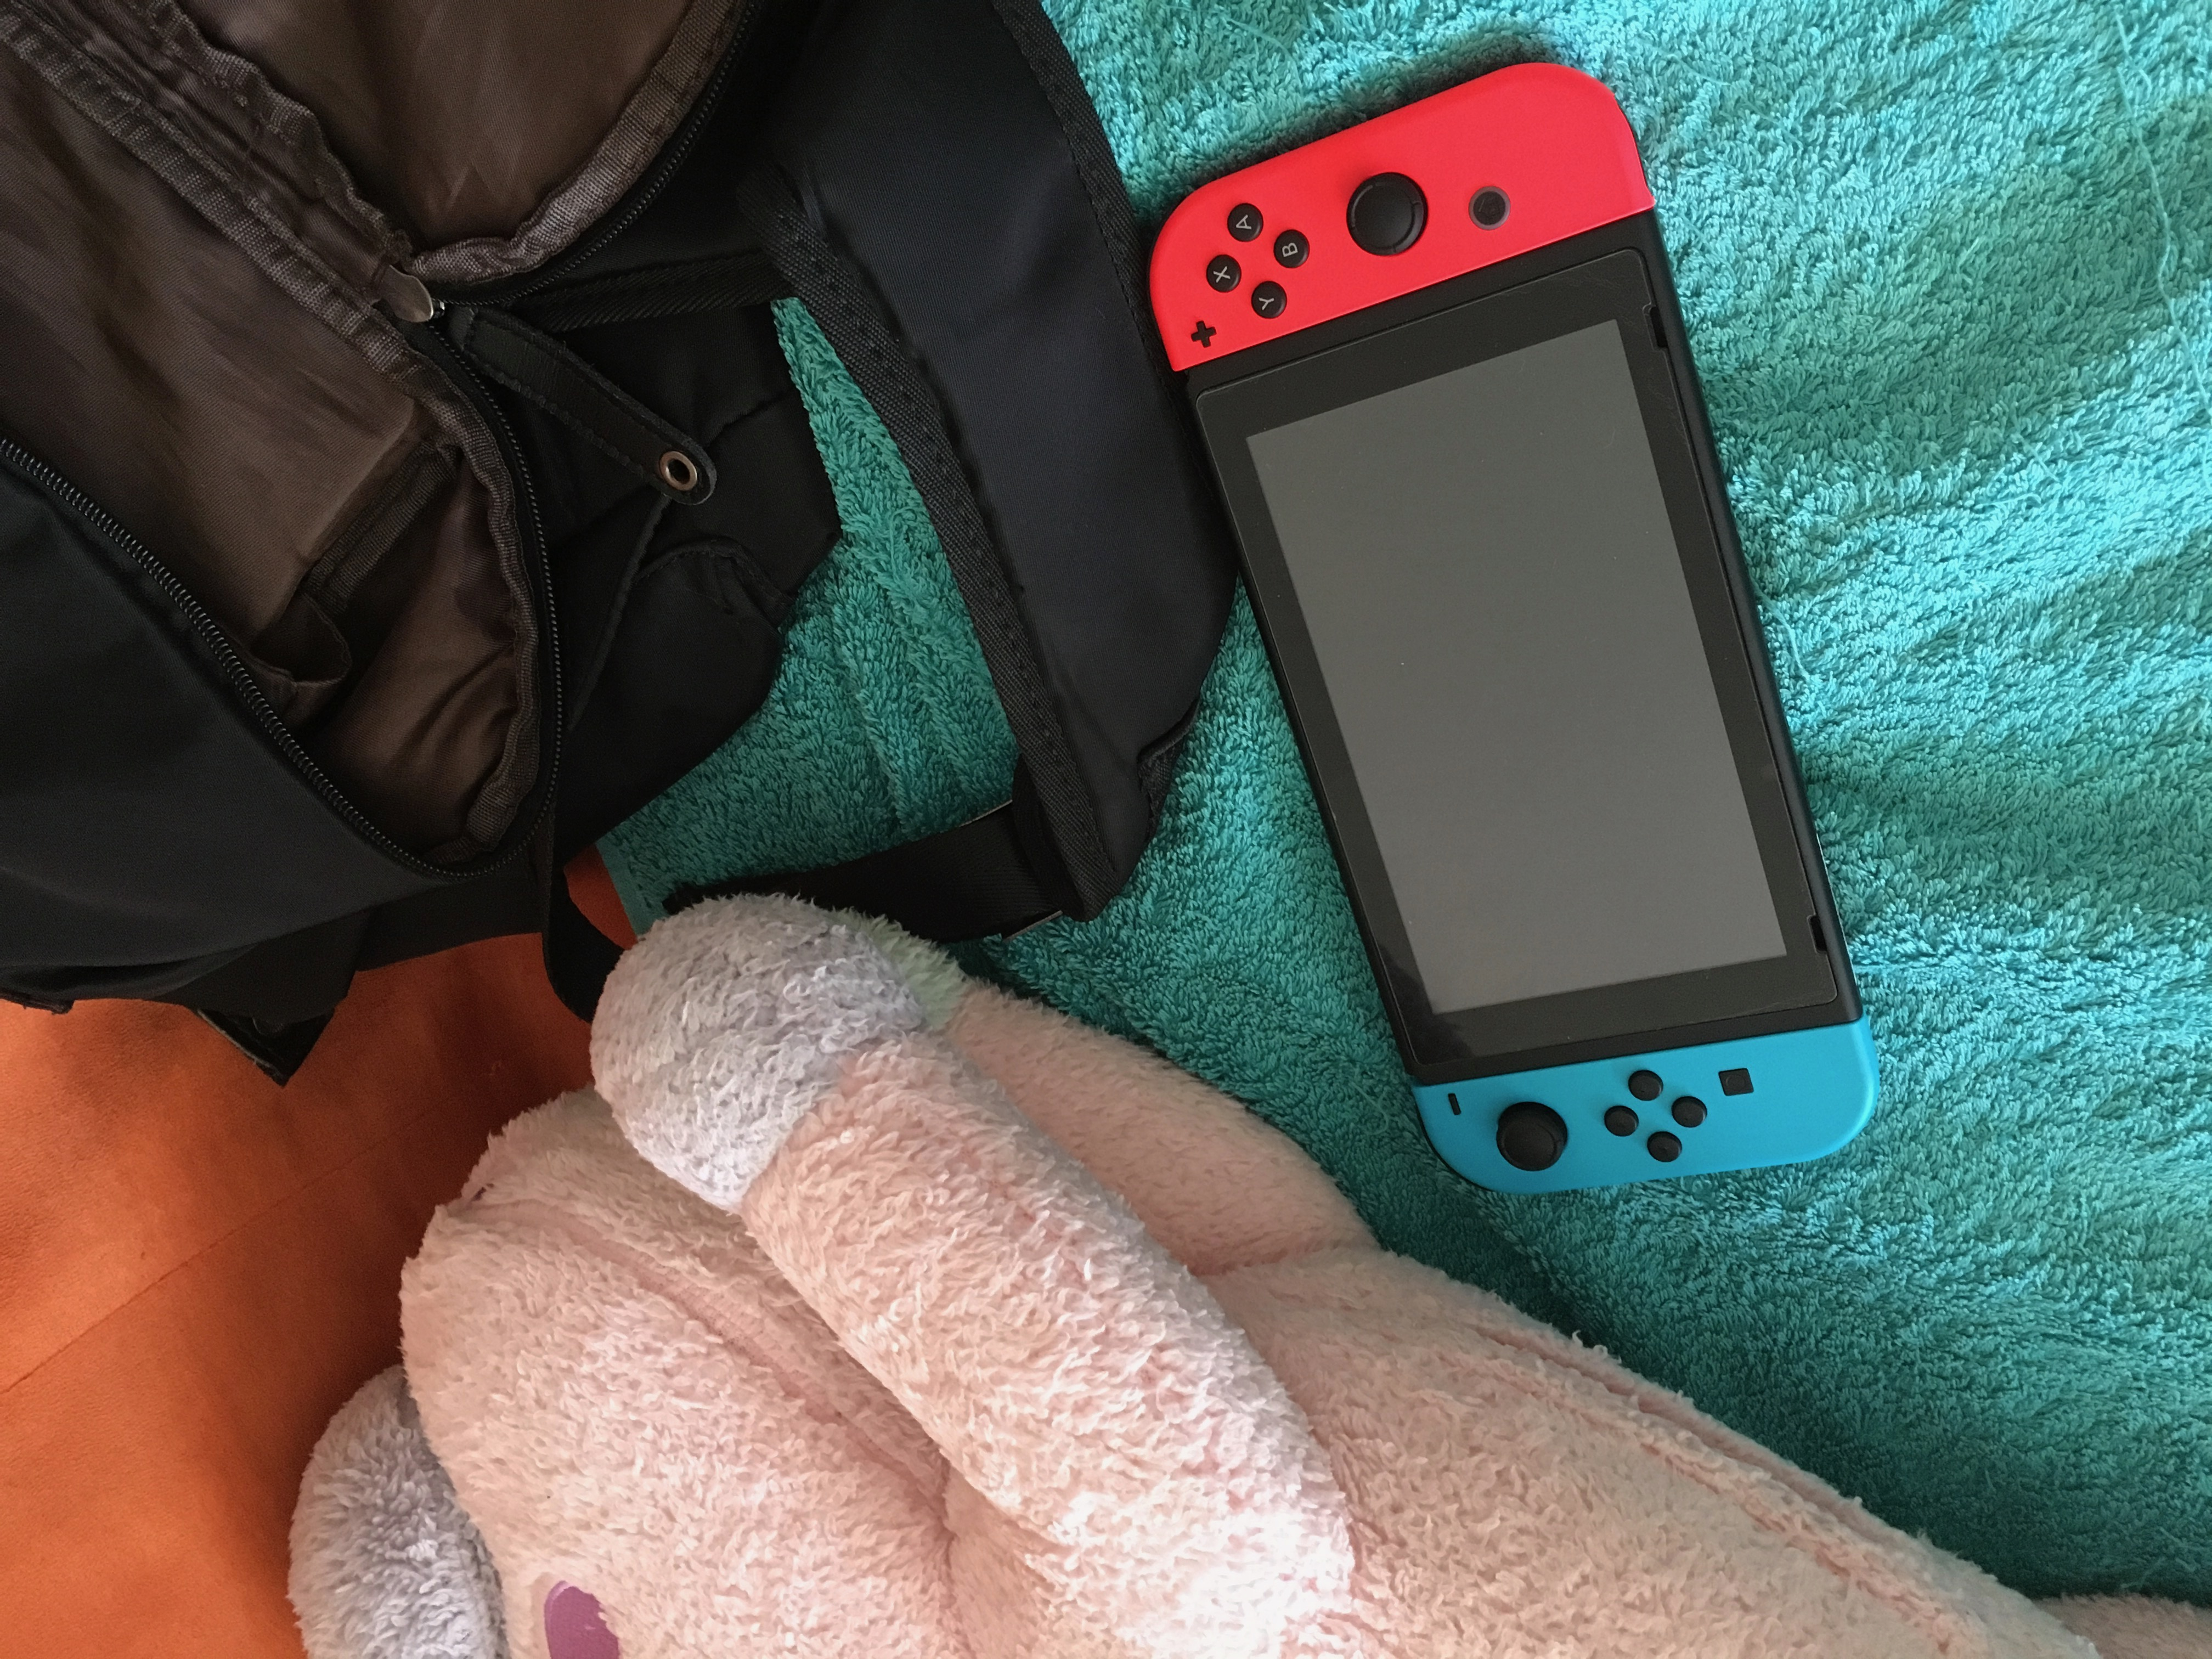NintendoSwitch: (1130, 52, 1885, 1208)
